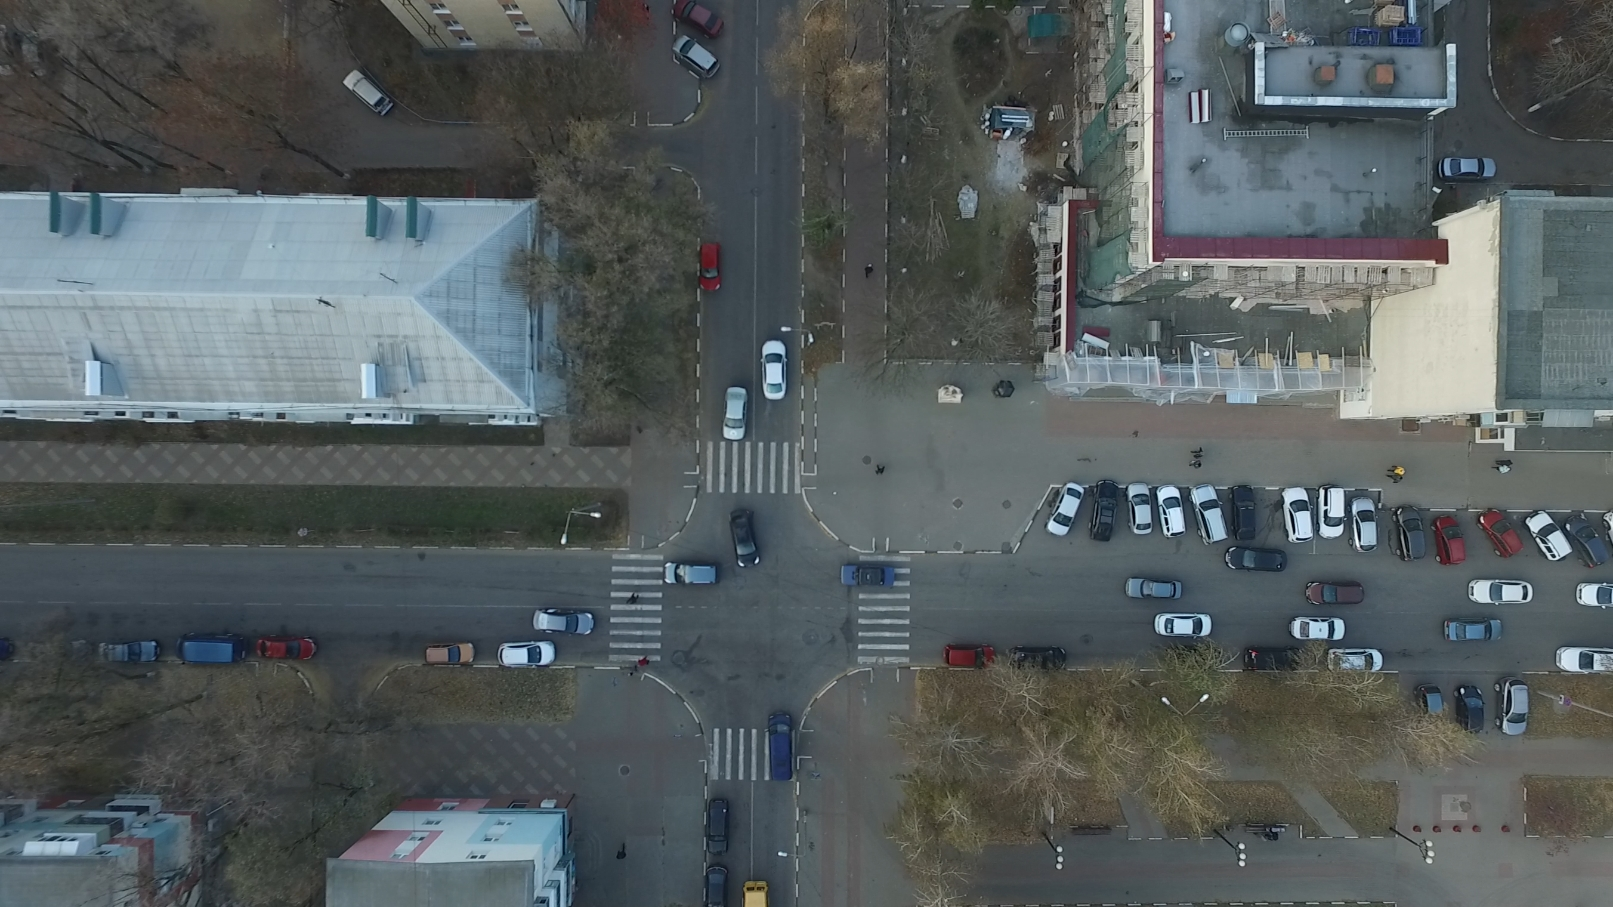car: (338, 69, 395, 118), (1522, 509, 1573, 565), (1559, 512, 1607, 568), (1186, 484, 1229, 548), (1475, 506, 1521, 563), (1492, 677, 1531, 740), (178, 635, 251, 668), (1083, 480, 1119, 544), (1044, 486, 1085, 542), (670, 1, 723, 43), (1431, 511, 1470, 567), (1389, 504, 1426, 564), (1153, 483, 1190, 542), (672, 40, 719, 84), (1280, 487, 1314, 547), (1467, 577, 1535, 607), (766, 713, 792, 786), (1225, 545, 1288, 575), (1227, 485, 1260, 544), (760, 338, 789, 402), (259, 636, 319, 666), (729, 508, 759, 568), (499, 639, 556, 670), (530, 608, 594, 636), (1008, 647, 1068, 676), (1164, 642, 1224, 671), (1555, 645, 1613, 674), (1124, 480, 1155, 535), (1287, 615, 1346, 643), (1155, 610, 1213, 639), (1453, 686, 1486, 736), (1348, 497, 1377, 554), (1314, 487, 1343, 544), (1326, 647, 1384, 674), (1442, 616, 1502, 642), (34, 645, 99, 669), (1434, 155, 1492, 182), (1305, 581, 1366, 606), (942, 645, 995, 672), (102, 645, 165, 668), (1124, 576, 1182, 601), (1414, 687, 1445, 733), (667, 563, 723, 588), (1244, 648, 1305, 671), (708, 798, 731, 857), (723, 386, 747, 442), (424, 643, 476, 668), (841, 565, 897, 587), (698, 243, 721, 293), (1576, 580, 1613, 611), (707, 863, 731, 905), (737, 879, 770, 907), (1, 649, 22, 672)
